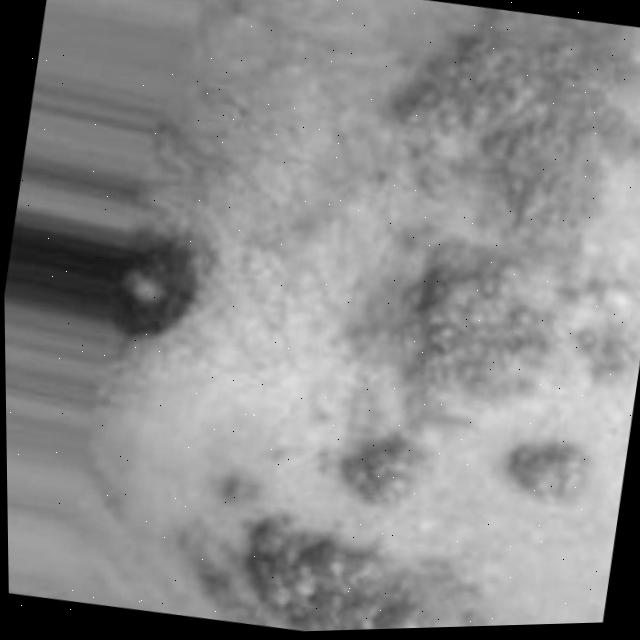Shingles: (333, 13, 640, 539), (236, 510, 439, 633)
